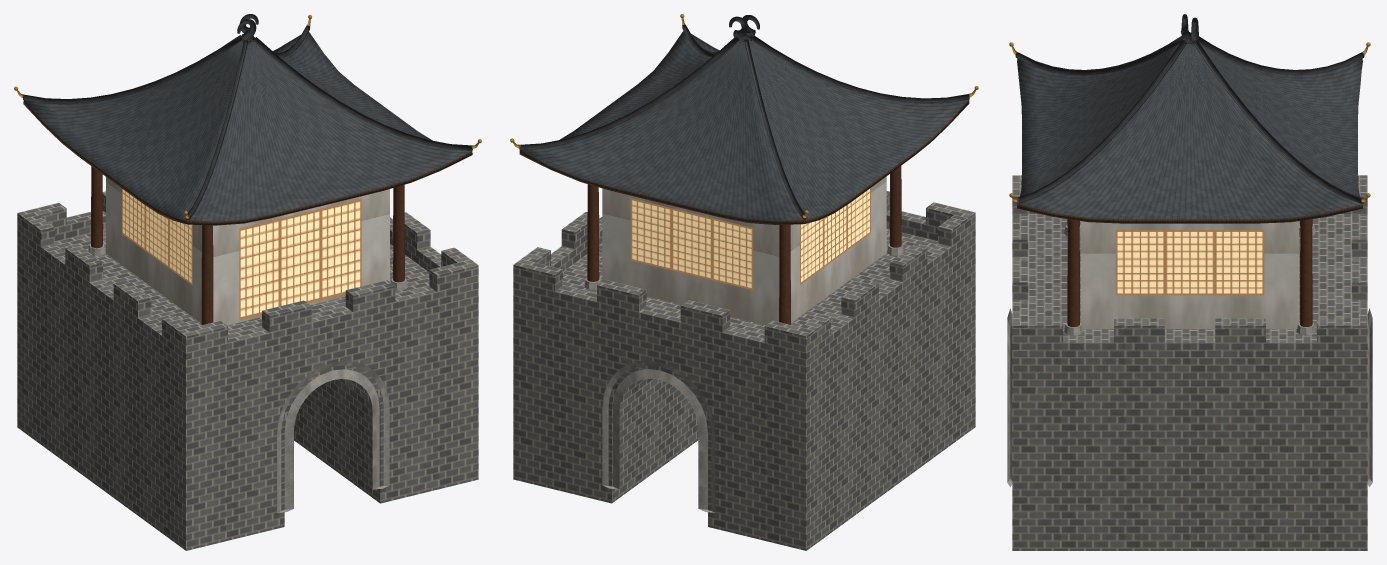
The model's file is bell_pavilion.glb.
The picture shows the model from 3 angles, left to right: view 1: azimuth 30°, elevation 25°; view 2: azimuth 150°, elevation 25°; view 3: azimuth 270°, elevation 25°; orthographic projection. The views are drawn at different scales.
Visible parts, largest first — view 1: BellPavilionArchBlock, BellPavilionCap, BellPavilionBattlements, BellPavilionWindows, BellPavilionWalls, BellPavilionArchRing, BellPavilionCapRidges, BellPavilionPillars; view 2: BellPavilionArchBlock, BellPavilionCap, BellPavilionBattlements, BellPavilionWalls, BellPavilionWindows, BellPavilionArchRing, BellPavilionCapRidges, BellPavilionPillars; view 3: BellPavilionArchBlock, BellPavilionCap, BellPavilionBattlements, BellPavilionWalls, BellPavilionWindows, BellPavilionCapRidges, BellPavilionPillars, BellPavilionArchRing, BellPavilionPillarBases.
Boxes of the visible parts, x1,y1,x2,y2 form: BellPavilionArchBlock: [17, 229, 478, 550]; BellPavilionCap: [23, 32, 472, 225]; BellPavilionBattlements: [17, 191, 478, 367]; BellPavilionWindows: [122, 189, 361, 319]; BellPavilionWalls: [106, 177, 389, 325]; BellPavilionArchRing: [277, 360, 389, 512]; BellPavilionCapRidges: [23, 14, 472, 219]; BellPavilionPillars: [91, 166, 404, 324]; BellPavilionArchBlock: [513, 229, 975, 550]; BellPavilionCap: [519, 31, 969, 224]; BellPavilionBattlements: [513, 191, 975, 366]; BellPavilionWalls: [602, 176, 886, 324]; BellPavilionWindows: [630, 188, 870, 290]; BellPavilionArchRing: [602, 360, 715, 512]; BellPavilionCapRidges: [519, 15, 969, 219]; BellPavilionPillars: [587, 166, 901, 324]; BellPavilionArchBlock: [1012, 214, 1367, 550]; BellPavilionCap: [1017, 39, 1362, 223]; BellPavilionBattlements: [1012, 175, 1367, 357]; BellPavilionWalls: [1080, 221, 1299, 328]; BellPavilionWindows: [1115, 230, 1264, 295]; BellPavilionCapRidges: [1015, 14, 1364, 203]; BellPavilionPillars: [1067, 219, 1312, 326]; BellPavilionArchRing: [1007, 308, 1372, 486]; BellPavilionPillarBases: [1064, 224, 1315, 335].
Size of what is drawn, in the model's own units: 11.18 by 15.68 by 11.32.
Materials: 10 (10 with a texture image).
